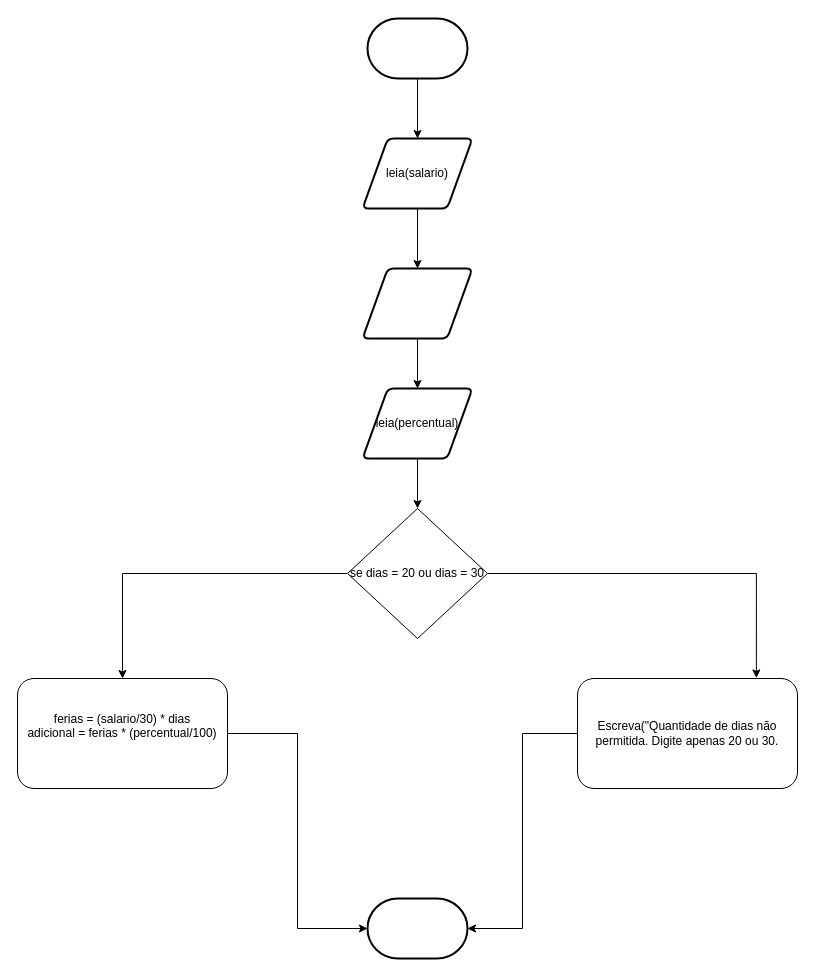
Some shapes in this 815 by 976 pixel diagram are drawn without their labels. Each missing label, with the centre of its shape:
Fim: (417,928)
Inicio: (417,48)
leia(dias): (417,303)
